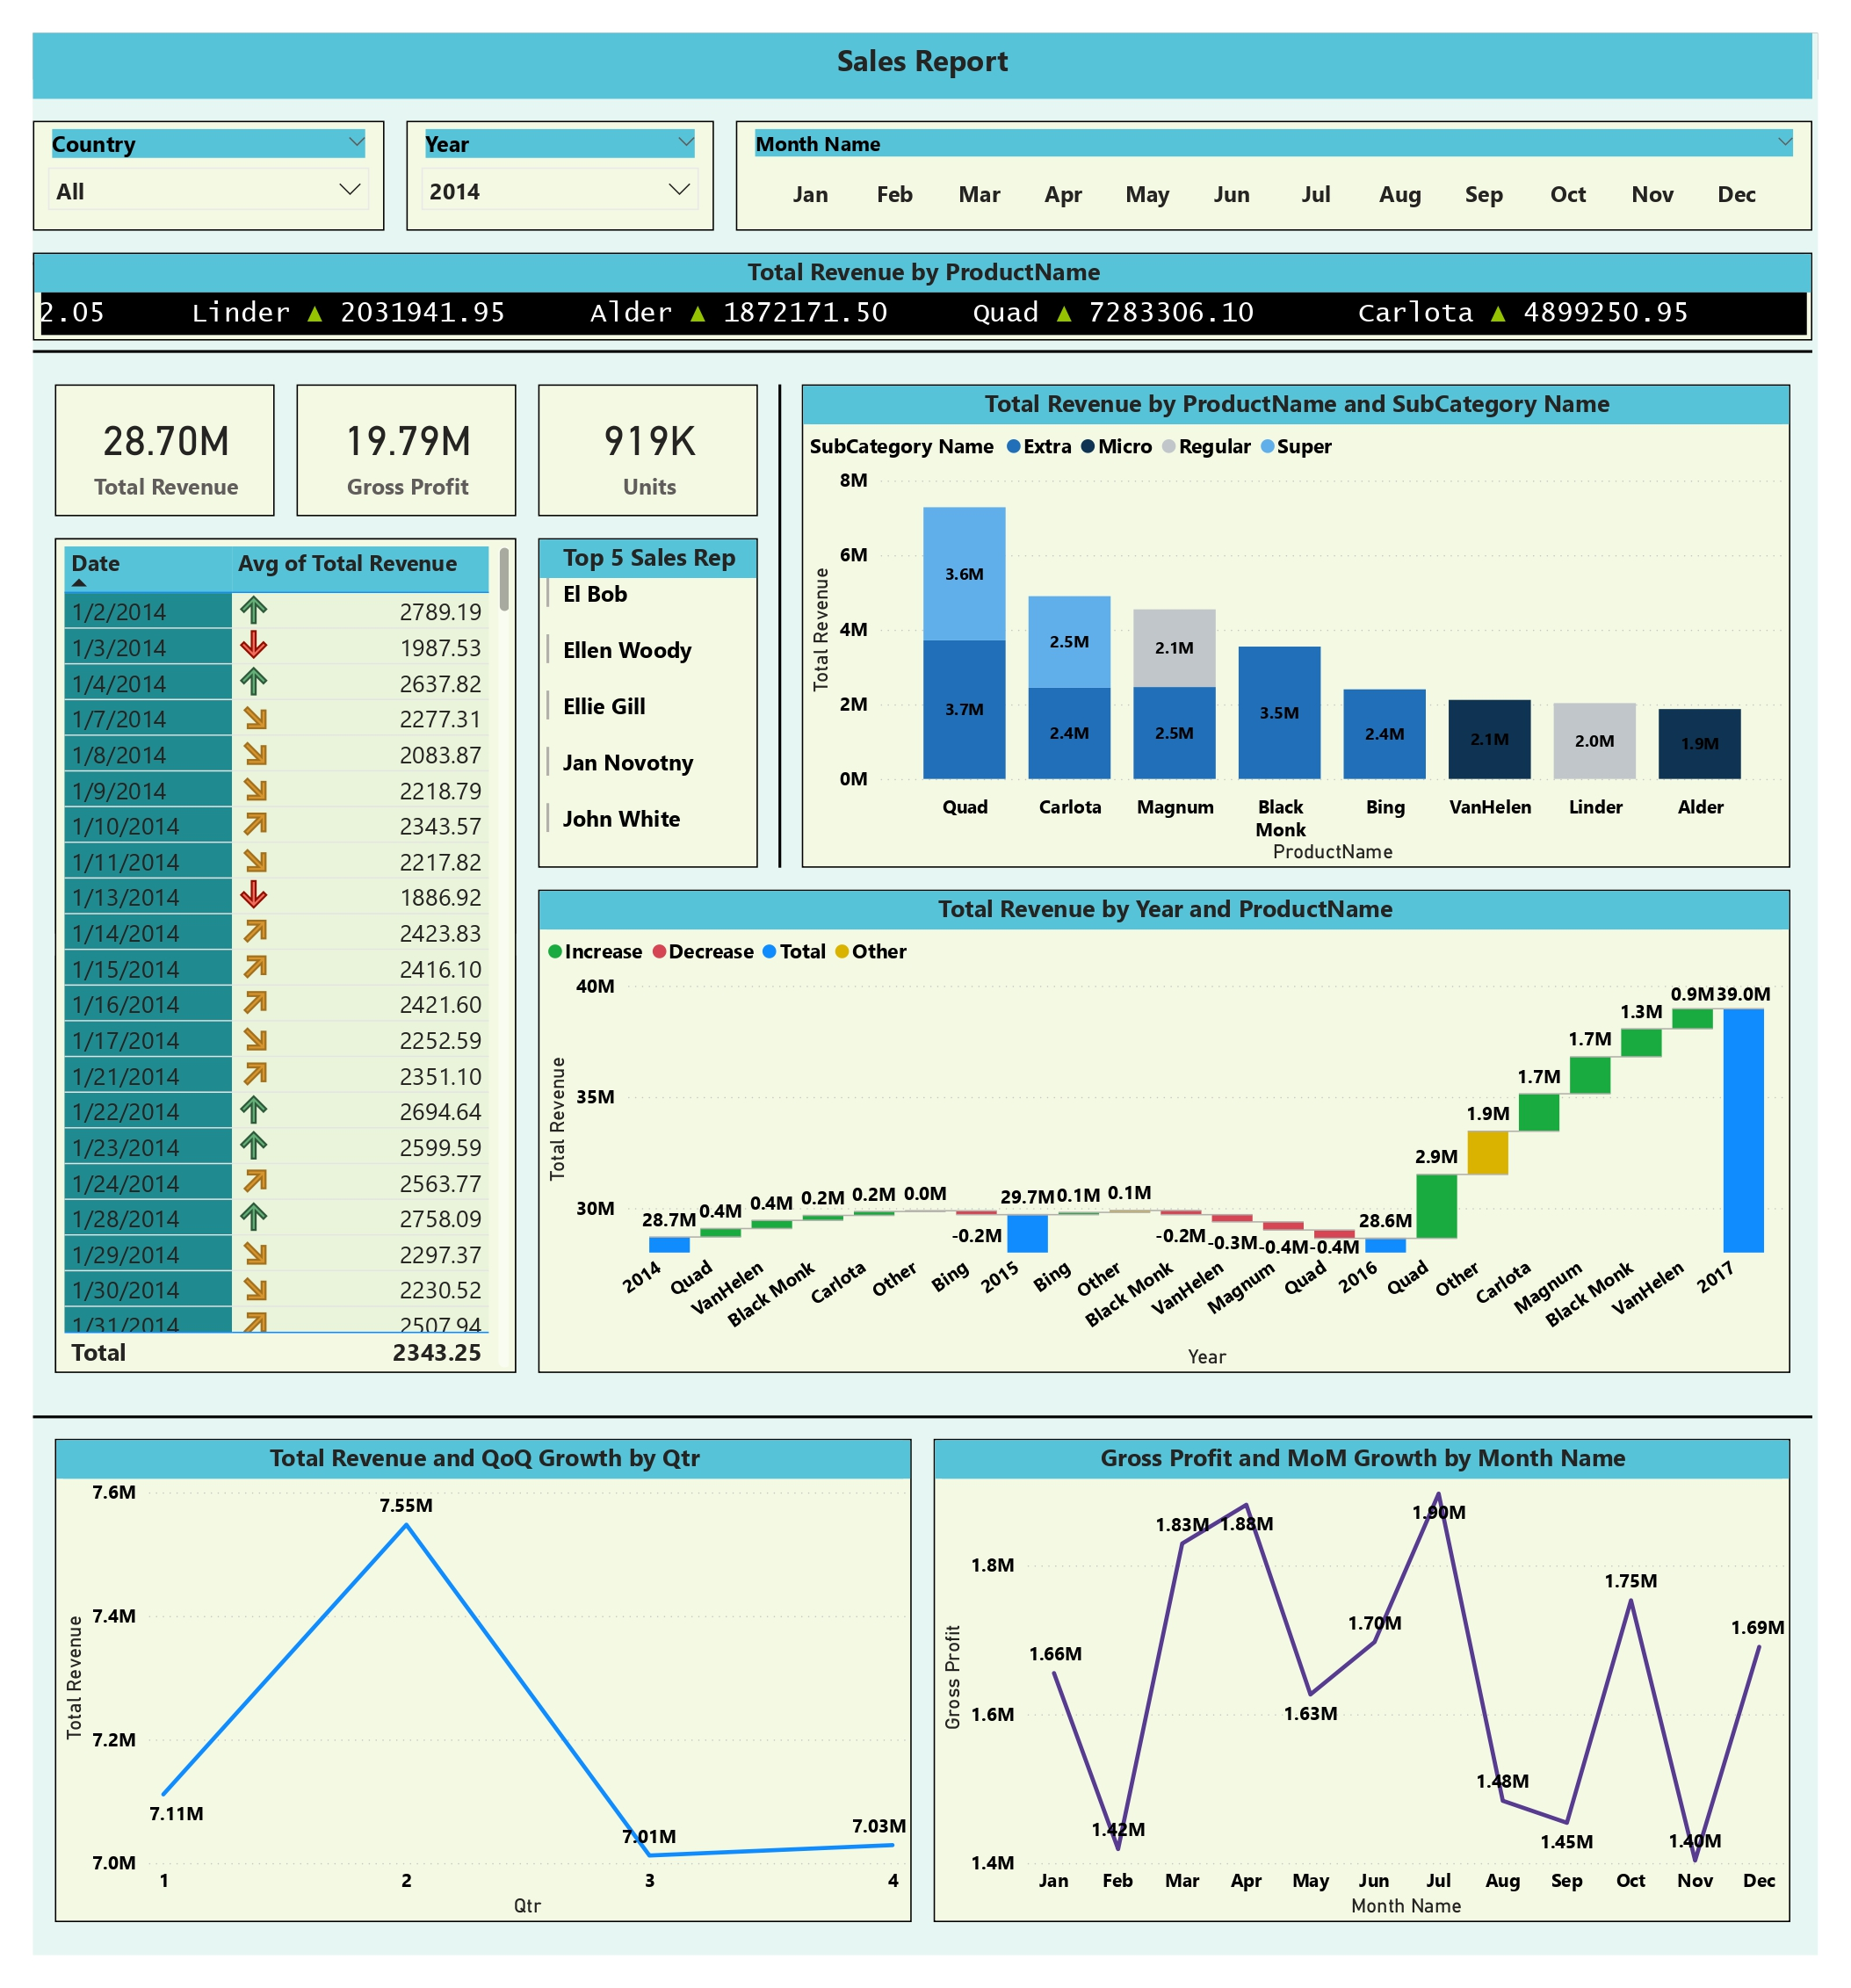

The page's visual inventory and layout, read from the dashboard file:
{"tool":"powerbi","page":{"name":"Page 1","canvas":[1300,1400],"ordinal":0},"visuals":[{"type":"textbox","box":[0,0,1296,48],"z":0},{"type":"slicer","fields":{"Values":["Geography.Country"]},"box":[0,64,256,80],"z":1000},{"type":"slicer","fields":{"Values":["DateMaster.Year"]},"box":[272,64,224,80],"z":2000},{"type":"slicer","fields":{"Values":["DateMaster.Month Name"]},"box":[512,64,784,80],"z":3000},{"type":"shape","box":[0,144,1296,48],"z":4000},{"type":"shape","box":[0,208,1296,48],"z":5000},{"type":"card","fields":{"Values":["Sales.Total Revenue"]},"box":[16,256,160,96],"z":6000},{"type":"card","fields":{"Values":["Sales.Gross Profit"]},"box":[192,256,160,96],"z":7000},{"type":"card","fields":{"Values":["Sales.Units"]},"box":[368,256,160,96],"z":8000},{"type":"shape","box":[528,256,32,352],"z":9000},{"type":"pieChart","fields":{"Category":["SubCategory.SubCategory Name"],"Y":["Sales.Total Revenue"]},"box":[16,368,336,288],"z":10000},{"type":"donutChart","fields":{"Y":["Sales.Total Revenue"],"Category":["Categories.Category"]},"box":[16,672,336,304],"z":11000},{"type":"multiRowCard","title":"Top 5 Sales Rep","fields":{"Values":["SalesRep.Sales Rep Name"]},"box":[368,368,160,240],"z":12000},{"type":"ScrollingTextVisual1448795304508","fields":{"Category":["ProductDetails.ProductName"],"Measure Deviation":["Sales.Total Revenue"]},"box":[0,160,1296,64],"z":13000},{"type":"waterfallChart","fields":{"Category":["DateMaster.Year"],"Breakdown":["ProductDetails.ProductName"],"Y":["Sales.Total Revenue"]},"box":[368,624,912,352],"z":14000},{"type":"columnChart","fields":{"Category":["ProductDetails.ProductName"],"Y":["Sales.Total Revenue"],"Series":["SubCategory.SubCategory Name"]},"box":[560,256,720,352],"z":15000},{"type":"shape","box":[0,992,1296,32],"z":16000},{"type":"lineChart","fields":{"Category":["DateMaster.Qtr"],"Y":["Sales.Total Revenue"]},"box":[16,1024,624,352],"z":17000},{"type":"lineChart","fields":{"Category":["DateMaster.Month Name"],"Y":["Sales.Gross Profit"]},"box":[656,1024,624,352],"z":18000},{"type":"tableEx","fields":{"Values":["DateMaster.Date","Sales.Total Revenue"]},"box":[16,368,336,608],"z":19000}]}

Visuals, with their boxes in screenshot pixels (x1, y1, x2, y2), scaled from the page's 1300x1400 canvas onto the 1851x1988 screenshot:
textbox: [x1=0, y1=0, x2=1846, y2=69]
slicer - Geography.Country: [x1=0, y1=90, x2=365, y2=205]
slicer - DateMaster.Year: [x1=387, y1=90, x2=706, y2=205]
slicer - DateMaster.Month Name: [x1=729, y1=90, x2=1846, y2=205]
shape: [x1=0, y1=205, x2=1846, y2=272]
shape: [x1=0, y1=295, x2=1846, y2=364]
card - Sales.Total Revenue: [x1=23, y1=364, x2=250, y2=500]
card - Sales.Gross Profit: [x1=273, y1=364, x2=502, y2=500]
card - Sales.Units: [x1=524, y1=364, x2=752, y2=500]
shape: [x1=752, y1=364, x2=798, y2=864]
pieChart - SubCategory.SubCategory Name x Sales.Total Revenue: [x1=23, y1=523, x2=502, y2=931]
donutChart - Sales.Total Revenue x Categories.Category: [x1=23, y1=954, x2=502, y2=1386]
"Top 5 Sales Rep" multiRowCard: [x1=524, y1=523, x2=752, y2=864]
ScrollingTextVisual1448795304508 - ProductDetails.ProductName x Sales.Total Revenue: [x1=0, y1=228, x2=1846, y2=318]
waterfallChart - DateMaster.Year x ProductDetails.ProductName: [x1=524, y1=886, x2=1823, y2=1386]
columnChart - ProductDetails.ProductName x Sales.Total Revenue: [x1=798, y1=364, x2=1823, y2=864]
shape: [x1=0, y1=1408, x2=1846, y2=1454]
lineChart - DateMaster.Qtr x Sales.Total Revenue: [x1=23, y1=1454, x2=911, y2=1954]
lineChart - DateMaster.Month Name x Sales.Gross Profit: [x1=934, y1=1454, x2=1823, y2=1954]
tableEx - DateMaster.Date x Sales.Total Revenue: [x1=23, y1=523, x2=502, y2=1386]
